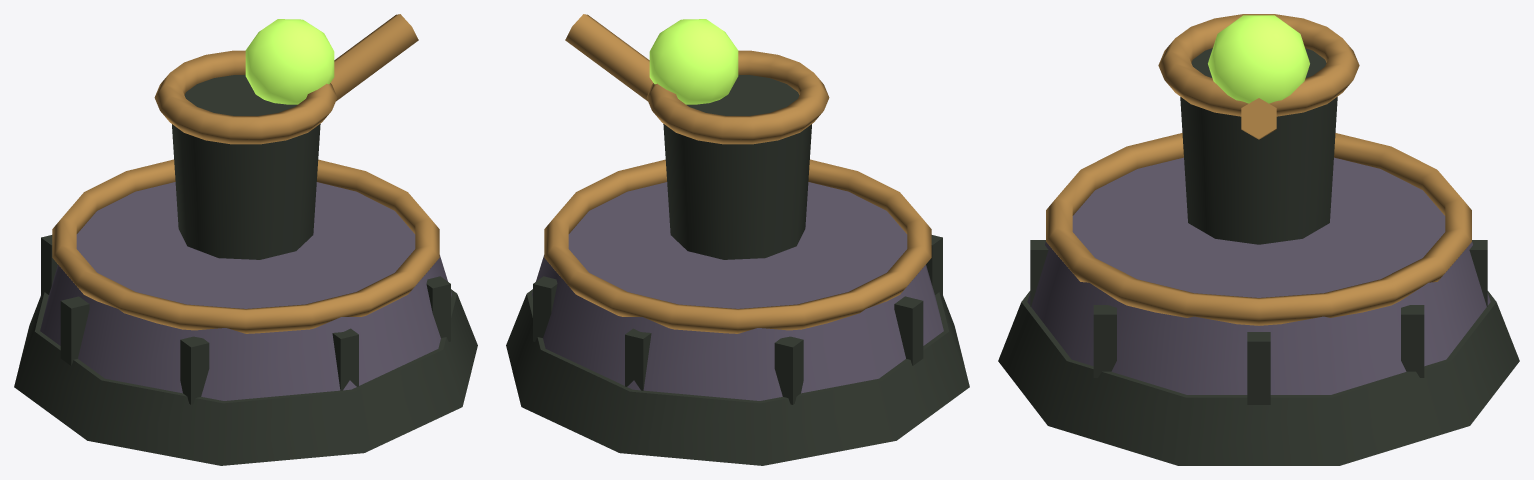
The model's file is tower_poison.glb.
3 views of the same model, side by side, from view 1: azimuth 30°, elevation 25°; view 2: azimuth 150°, elevation 25°; view 3: azimuth 270°, elevation 25° (orthographic). The views are drawn at different scales.
Visible parts, largest first — view 1: stone_1, foot_0, vessel_11, rim_2, vessel_lip_13, gland_15, needle_14, mortar_6, mortar_7, mortar_5, mortar_4, mortar_8; view 2: stone_1, foot_0, vessel_11, rim_2, vessel_lip_13, gland_15, needle_14, mortar_8, mortar_7, mortar_9, mortar_10, mortar_6; view 3: stone_1, foot_0, rim_2, vessel_11, vessel_lip_13, gland_15, mortar_3, mortar_4, mortar_10, needle_14, mortar_5, mortar_9.
Boxes of the visible parts, left/top/right/bottom form: stone_1: left=40, top=182, right=451, bottom=400; foot_0: left=14, top=289, right=477, bottom=465; vessel_11: left=172, top=75, right=320, bottom=259; rim_2: left=52, top=159, right=439, bottom=333; vessel_lip_13: left=154, top=50, right=337, bottom=144; gland_15: left=245, top=19, right=334, bottom=104; needle_14: left=330, top=14, right=418, bottom=101; mortar_6: left=180, top=336, right=209, bottom=404; mortar_7: left=60, top=296, right=89, bottom=365; mortar_5: left=332, top=328, right=358, bottom=390; mortar_4: left=426, top=276, right=450, bottom=341; mortar_8: left=41, top=235, right=57, bottom=296; stone_1: left=532, top=182, right=943, bottom=400; foot_0: left=506, top=289, right=969, bottom=465; vessel_11: left=663, top=75, right=811, bottom=259; rim_2: left=544, top=159, right=931, bottom=333; vessel_lip_13: left=646, top=50, right=829, bottom=144; gland_15: left=649, top=19, right=738, bottom=104; needle_14: left=565, top=14, right=653, bottom=101; mortar_8: left=774, top=336, right=803, bottom=404; mortar_7: left=894, top=296, right=923, bottom=365; mortar_9: left=625, top=328, right=651, bottom=390; mortar_10: left=533, top=276, right=557, bottom=341; mortar_6: left=926, top=235, right=942, bottom=296; stone_1: left=1027, top=157, right=1490, bottom=394; foot_0: left=998, top=291, right=1519, bottom=465; rim_2: left=1046, top=133, right=1471, bottom=325; vessel_11: left=1180, top=48, right=1337, bottom=244; vessel_lip_13: left=1158, top=14, right=1359, bottom=116; gland_15: left=1208, top=15, right=1309, bottom=103; mortar_3: left=1247, top=332, right=1270, bottom=404; mortar_4: left=1093, top=305, right=1116, bottom=377; mortar_10: left=1401, top=305, right=1424, bottom=377; needle_14: left=1241, top=98, right=1276, bottom=139; mortar_5: left=1030, top=240, right=1048, bottom=306; mortar_9: left=1469, top=240, right=1487, bottom=306.
Bounding box in the file's own units: 0.5326 × 0.435 × 0.56.
